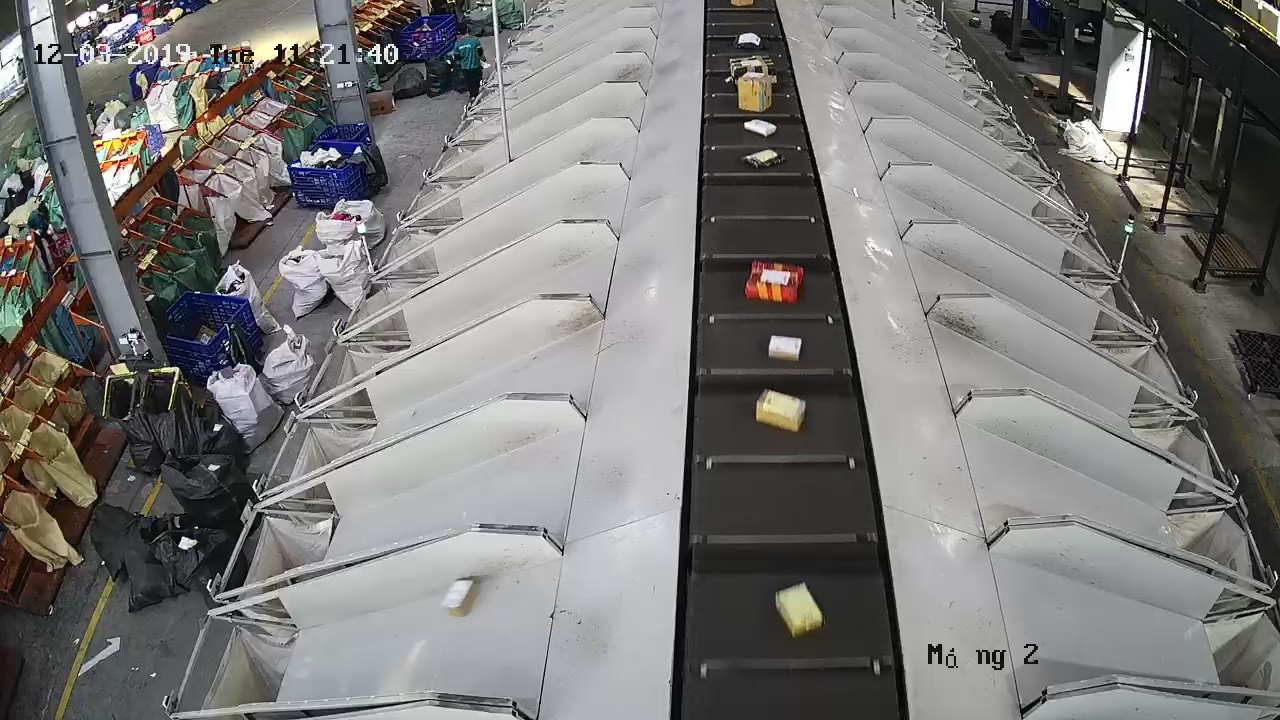parcel: (774, 581, 826, 639), (743, 258, 806, 305), (754, 388, 808, 434), (443, 578, 477, 617), (739, 147, 787, 171), (766, 334, 803, 364), (742, 117, 778, 138)
